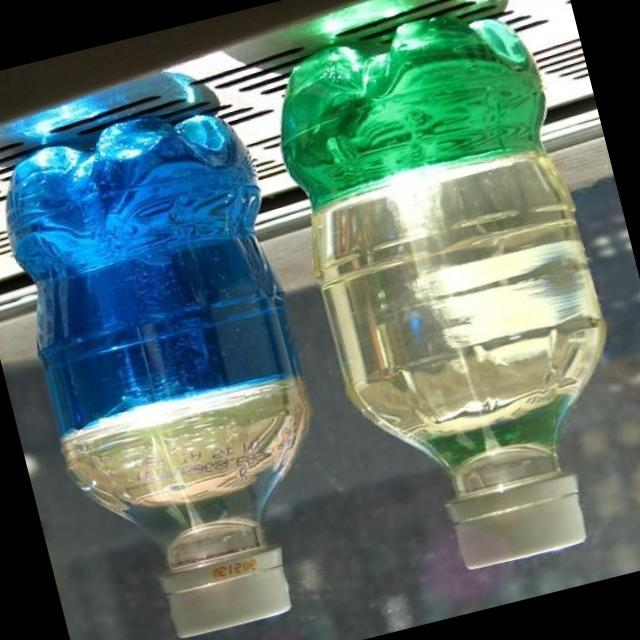plastic_bottle: (259, 0, 640, 590), (0, 92, 362, 640)
